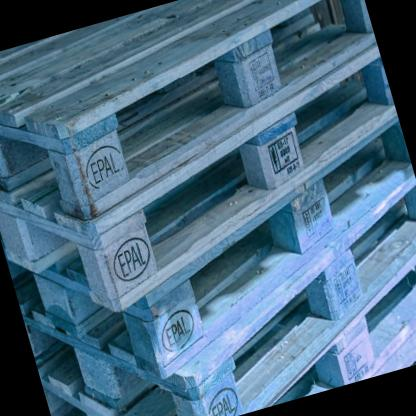BoxFace: (8, 112, 416, 383), (0, 52, 395, 314)
